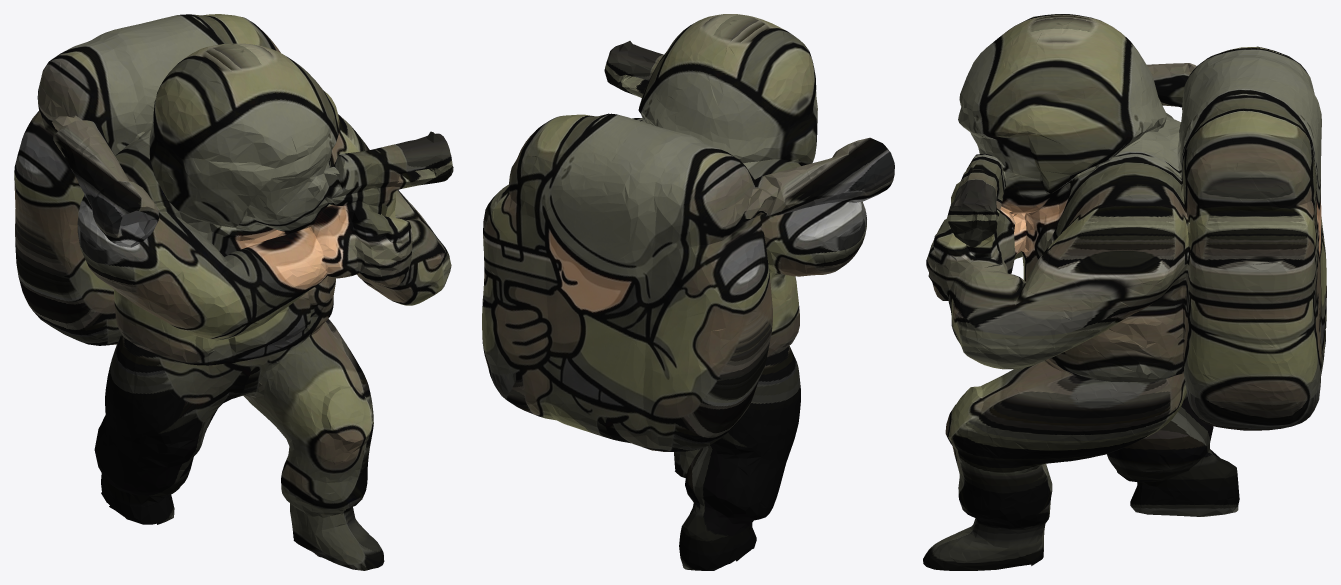
The model's file is player.glb.
3 views of the same model, side by side, from view 1: azimuth 30°, elevation 25°; view 2: azimuth 150°, elevation 25°; view 3: azimuth 270°, elevation 25° (orthographic). The views are drawn at different scales.
Parts seen in each view (by area): view 1: geometry_0; view 2: geometry_0; view 3: geometry_0.
Part boxes in pixels (x1=…): geometry_0: x1=14, y1=14, x2=453, y2=570; geometry_0: x1=482, y1=14, x2=894, y2=570; geometry_0: x1=923, y1=14, x2=1326, y2=570.
Bounding box in the file's own units: 1.25 × 1.8 × 1.3.
Materials: 1 (1 with a texture image).
